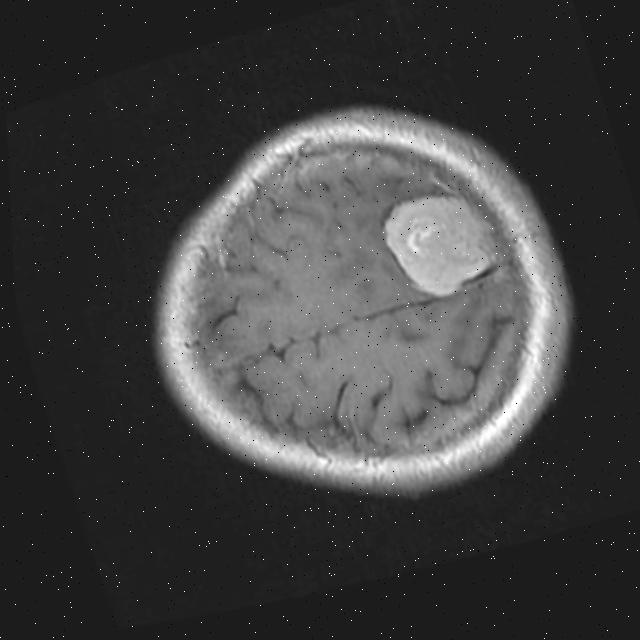Meningioma: (373, 179, 507, 306)
